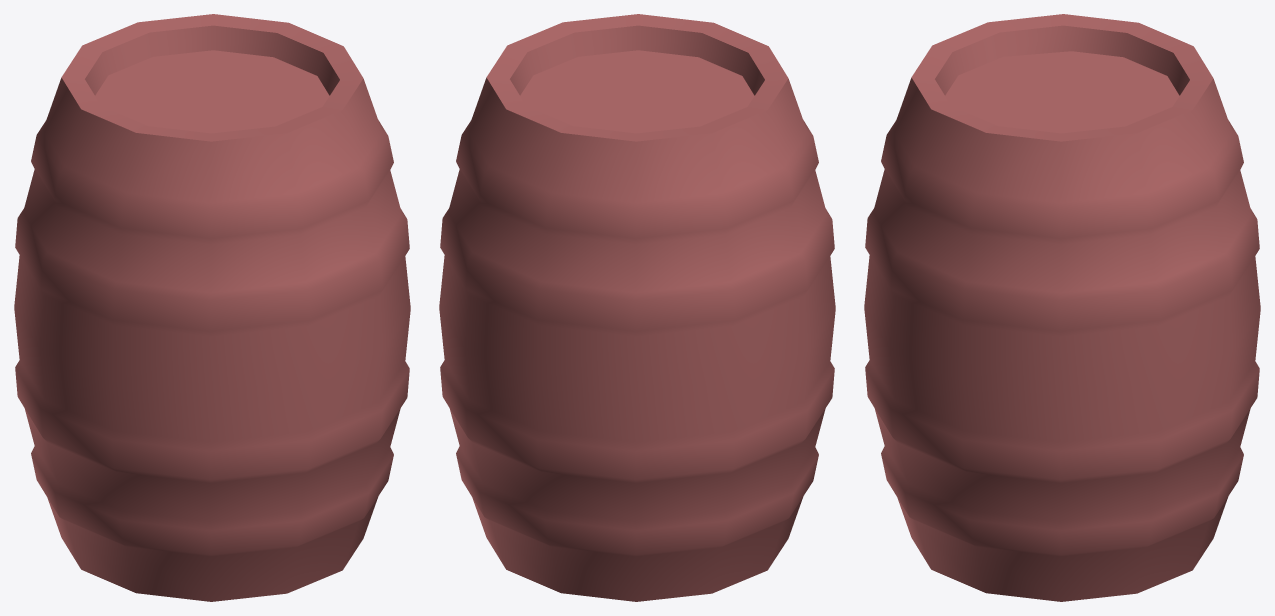
The model's file is Barrel.fbx.
3 views of the same model, side by side, from view 1: azimuth 30°, elevation 25°; view 2: azimuth 150°, elevation 25°; view 3: azimuth 270°, elevation 25° (orthographic).
Visible parts, largest first — view 1: Barrel; view 2: Barrel; view 3: Barrel.
Boxes of the visible parts, box(x1,y1,x2,y2) form: Barrel: box(14, 14, 410, 601); Barrel: box(439, 14, 835, 601); Barrel: box(864, 14, 1260, 601).
Size of the model in its own units: 84.16 by 108 by 84.16.
